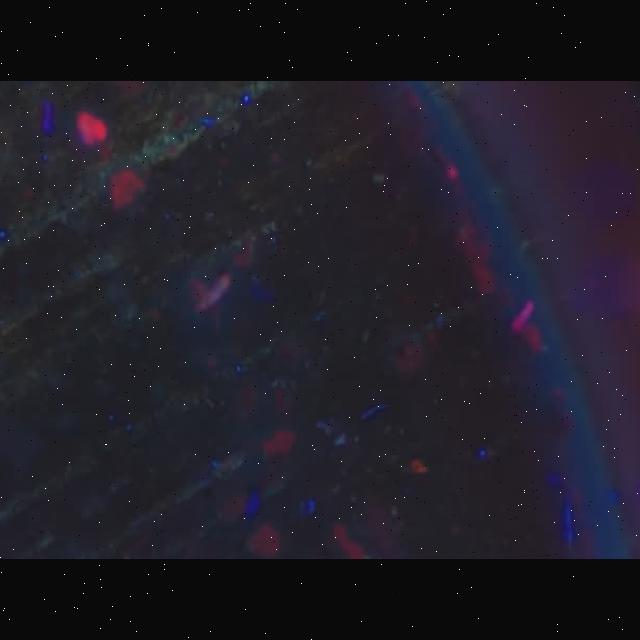Fragment: (77, 110, 106, 145)
